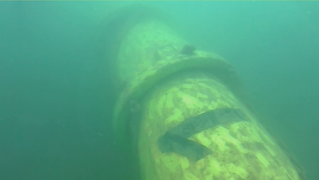1: (156, 106, 252, 163)
pipe: (98, 1, 301, 180)
